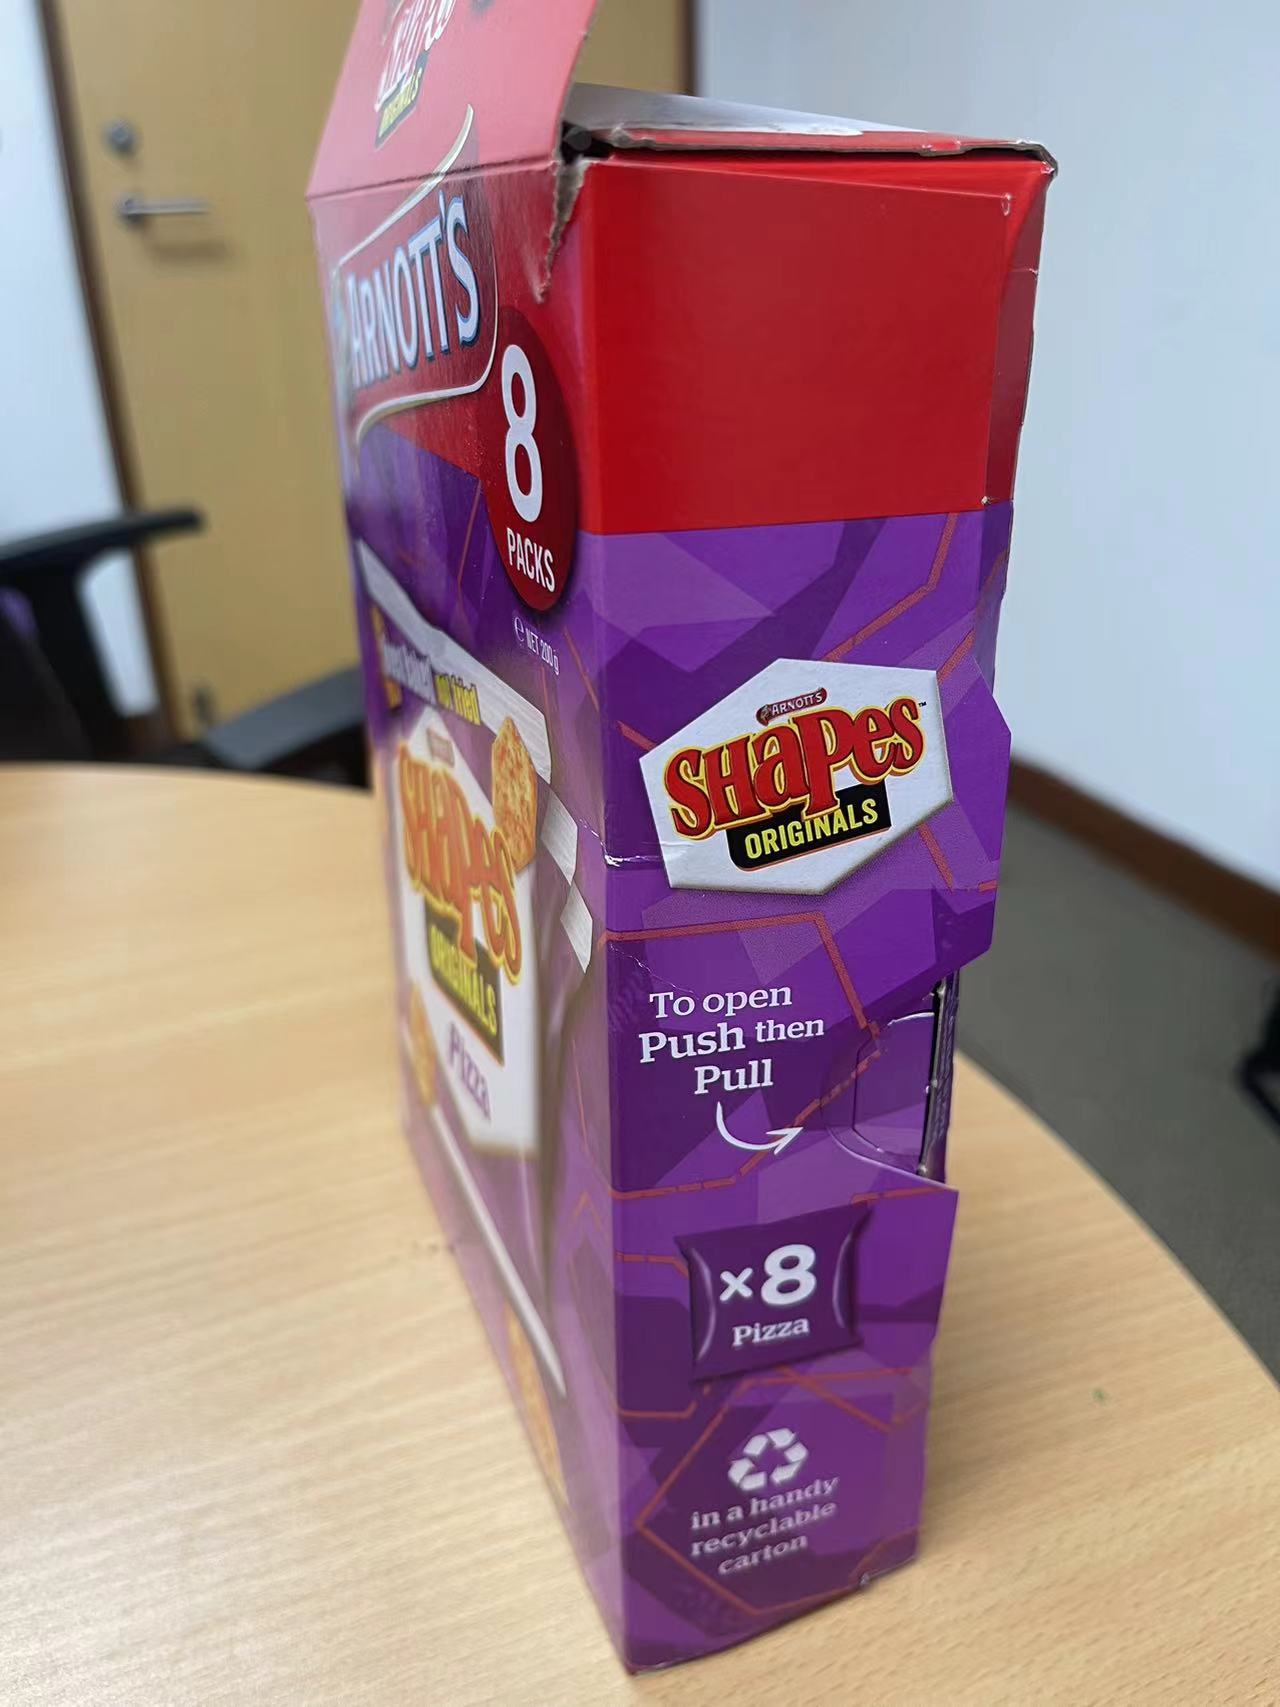Crackers_200-299g_NonHalal_NonHealthy: (305, 8, 1011, 1653)
